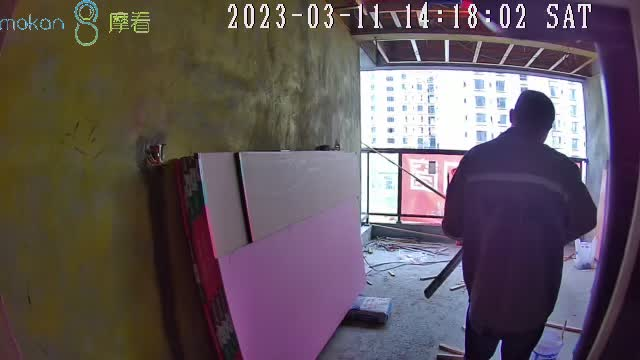people: (441, 90, 597, 360)
window: (359, 66, 591, 236)
